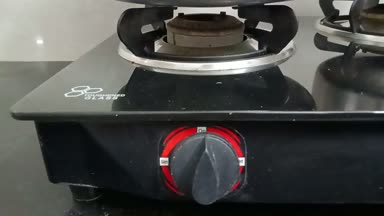noflame_gason: (116, 1, 302, 213)
